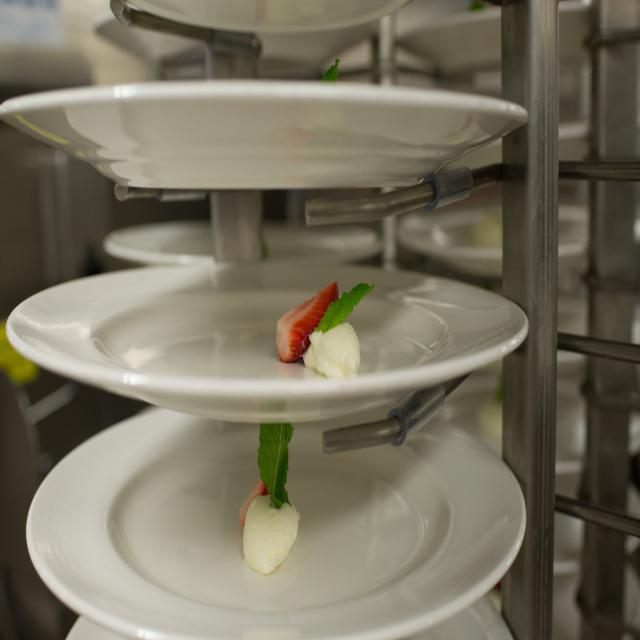ceramic plate: (0, 46, 558, 232), (23, 450, 550, 636), (7, 268, 565, 442)
